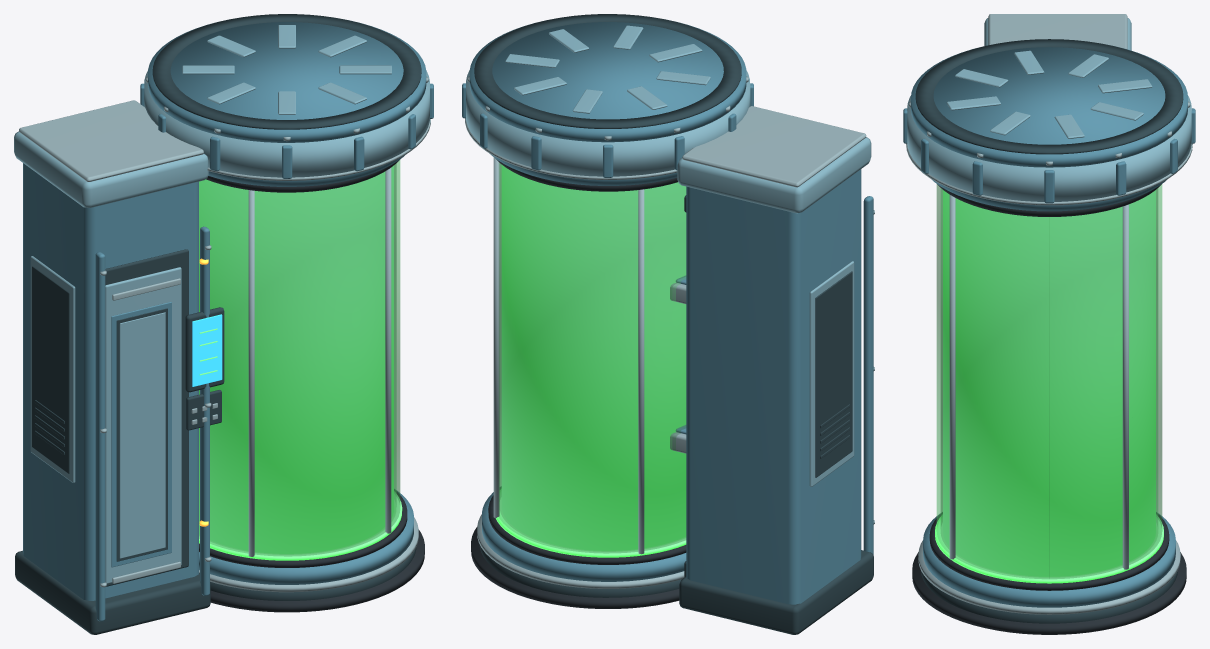
Rendered from BlueTube_GreenCore_StudioTextured.glb.
The picture shows the model from 3 angles, left to right: view 1: azimuth 30°, elevation 25°; view 2: azimuth 150°, elevation 25°; view 3: azimuth 270°, elevation 25°; orthographic projection.
Visible parts, largest first — view 1: Tube_Glossy_cobalt_blue_enamel, Tube_Cyan_glass_shell, Tube_Cyan_energy_core, Tube_Worn_light_blue_panels, Tube_Recessed_graphite, Tube_Polished_steel_edge, Tube_Dark_rubber_gasket, Tube_Diagnostic_screen, Tube_Indicator_bright_cyan; view 2: Tube_Glossy_cobalt_blue_enamel, Tube_Cyan_glass_shell, Tube_Cyan_energy_core, Tube_Recessed_graphite, Tube_Worn_light_blue_panels, Tube_Polished_steel_edge, Tube_Dark_rubber_gasket, Tube_Indicator_bright_cyan; view 3: Tube_Cyan_glass_shell, Tube_Cyan_energy_core, Tube_Glossy_cobalt_blue_enamel, Tube_Worn_light_blue_panels, Tube_Polished_steel_edge, Tube_Recessed_graphite, Tube_Dark_rubber_gasket, Tube_Indicator_bright_cyan.
Boxes of the visible parts, <box> form: Tube_Glossy_cobalt_blue_enamel: <box>23,19,433,621</box>; Tube_Cyan_glass_shell: <box>199,160,400,556</box>; Tube_Cyan_energy_core: <box>199,165,393,553</box>; Tube_Worn_light_blue_panels: <box>14,25,429,583</box>; Tube_Recessed_graphite: <box>15,14,421,634</box>; Tube_Polished_steel_edge: <box>19,76,430,592</box>; Tube_Dark_rubber_gasket: <box>199,160,424,612</box>; Tube_Diagnostic_screen: <box>192,314,222,386</box>; Tube_Indicator_bright_cyan: <box>199,328,402,560</box>; Tube_Glossy_cobalt_blue_enamel: <box>462,19,873,604</box>; Tube_Cyan_glass_shell: <box>499,163,686,553</box>; Tube_Cyan_energy_core: <box>501,165,686,550</box>; Tube_Recessed_graphite: <box>474,14,873,634</box>; Tube_Worn_light_blue_panels: <box>466,25,871,486</box>; Tube_Polished_steel_edge: <box>465,76,874,588</box>; Tube_Dark_rubber_gasket: <box>471,159,686,608</box>; Tube_Indicator_bright_cyan: <box>495,490,686,557</box>; Tube_Cyan_glass_shell: <box>936,184,1162,578</box>; Tube_Cyan_energy_core: <box>943,190,1155,576</box>; Tube_Glossy_cobalt_blue_enamel: <box>903,46,1195,607</box>; Tube_Worn_light_blue_panels: <box>907,18,1191,201</box>; Tube_Polished_steel_edge: <box>906,14,1192,614</box>; Tube_Recessed_graphite: <box>915,39,1183,623</box>; Tube_Dark_rubber_gasket: <box>912,184,1186,634</box>; Tube_Indicator_bright_cyan: <box>935,515,1163,583</box>.
Bounding box in the file's own units: 9.44 × 12.1 × 6.63.
Materials: 10 (10 with a texture image).
